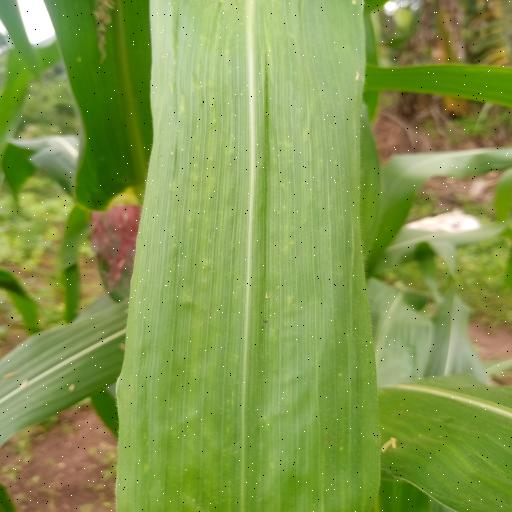Corn_Chlorotic_Leaf_Spot: (116, 1, 380, 512)
